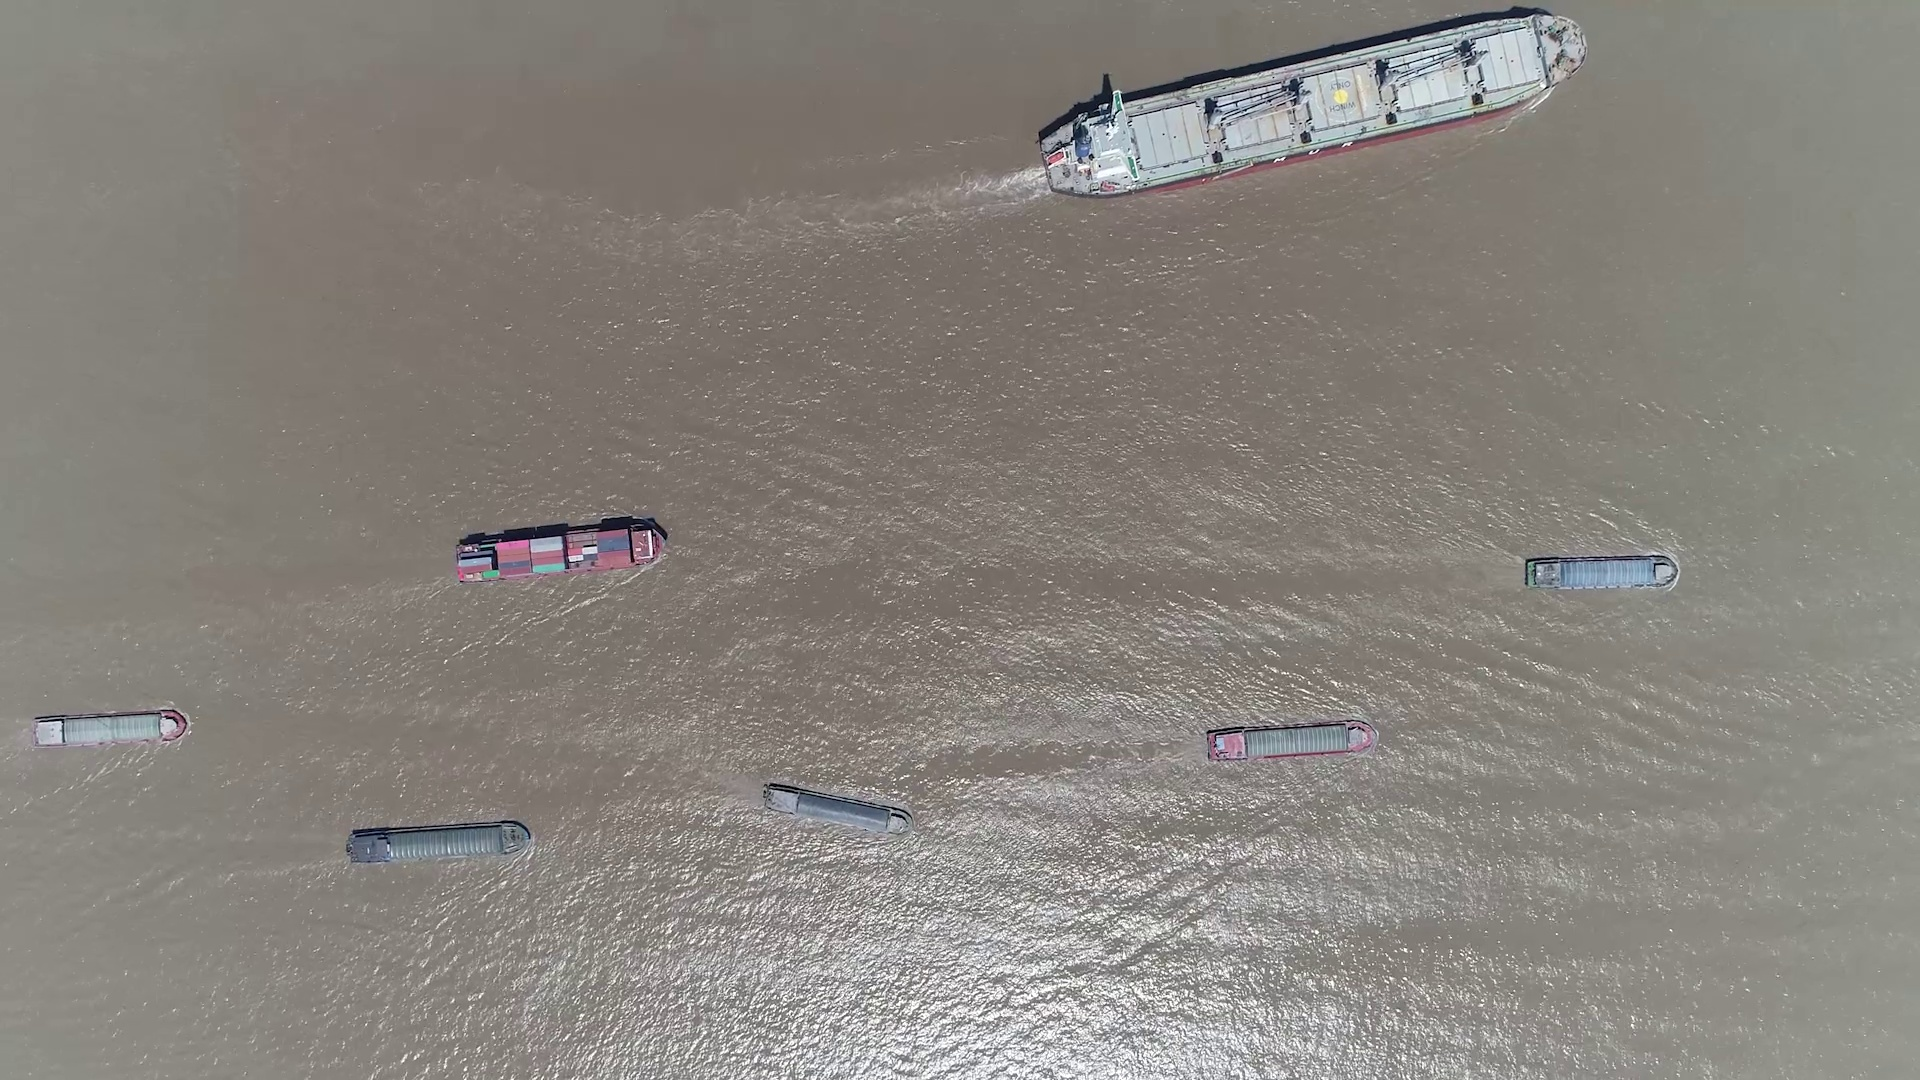ship: (1038, 15, 1582, 196), (455, 520, 667, 582), (345, 820, 531, 865), (760, 785, 909, 835), (1207, 720, 1377, 762), (29, 709, 187, 748), (1524, 554, 1677, 591)
